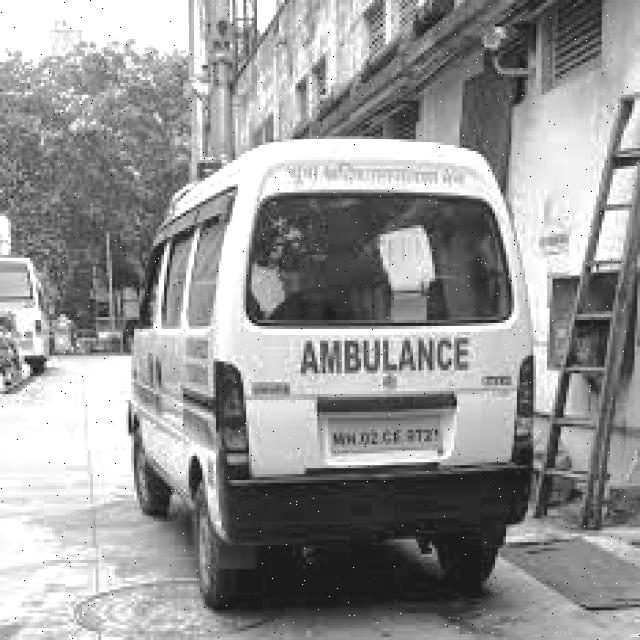LCV: (218, 151, 531, 543)
